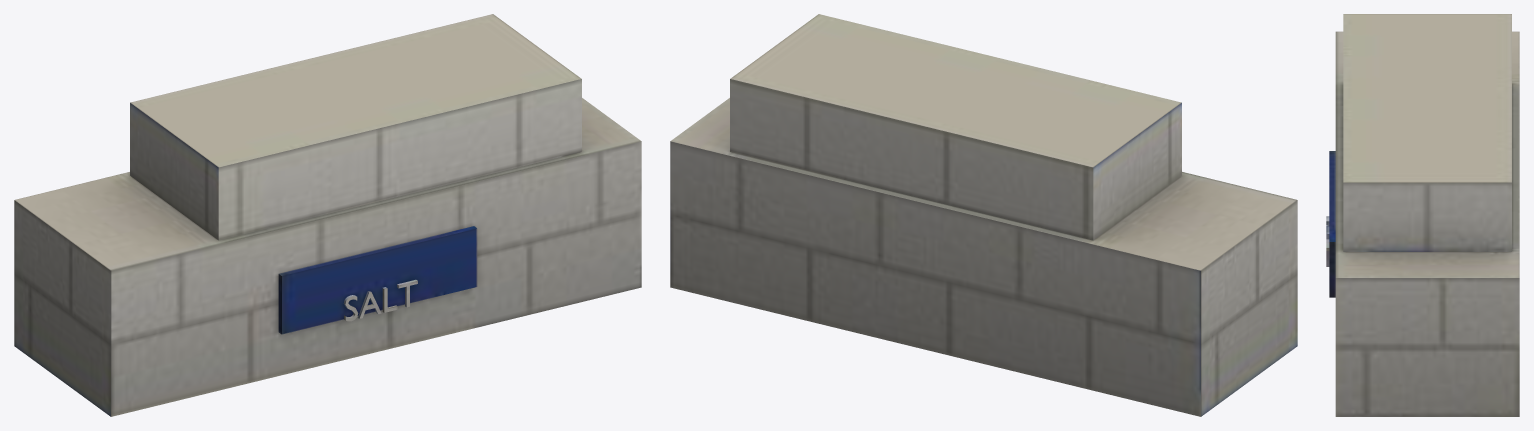
File: bloque_sal.glb
3 renders of one model, left to right at view 1: azimuth 30°, elevation 25°; view 2: azimuth 150°, elevation 25°; view 3: azimuth 270°, elevation 25°, orthographic. The views are drawn at different scales.
Visible parts, largest first — view 1: bloque_sal; view 2: bloque_sal; view 3: bloque_sal.
Part boxes in pixels (box(x1,y1,x2,y2)): bloque_sal: box(14, 14, 641, 416); bloque_sal: box(670, 14, 1297, 416); bloque_sal: box(1326, 14, 1519, 416).
Size of the model in its own units: 1.9 by 0.75 by 0.63.
Materials: 1 (1 with a texture image).
